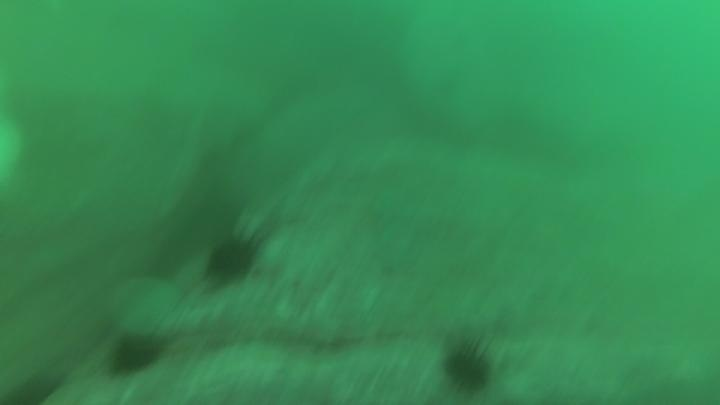echinus: (202, 230, 263, 288), (439, 337, 497, 396), (106, 329, 166, 379)
